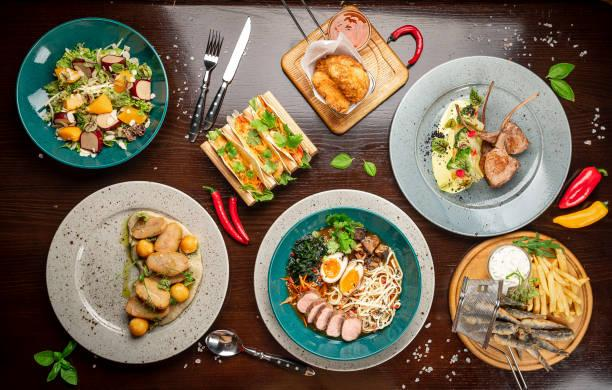Braised Crucian Carp: (43, 179, 224, 365), (388, 54, 568, 236), (254, 188, 432, 371), (15, 16, 168, 167), (447, 232, 593, 373)
